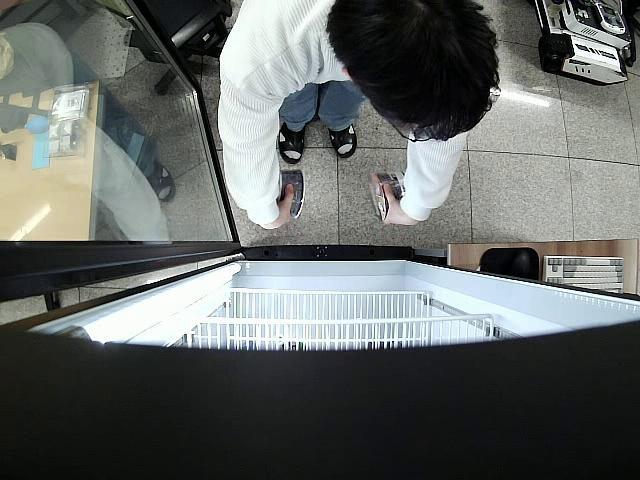07_buldak_L: (370, 172, 405, 220), (278, 168, 308, 222)
